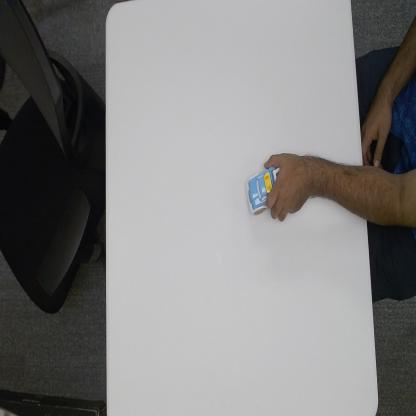Arm: (308, 156, 366, 220)
Car: (245, 165, 280, 217)
Hand: (263, 150, 308, 224)
